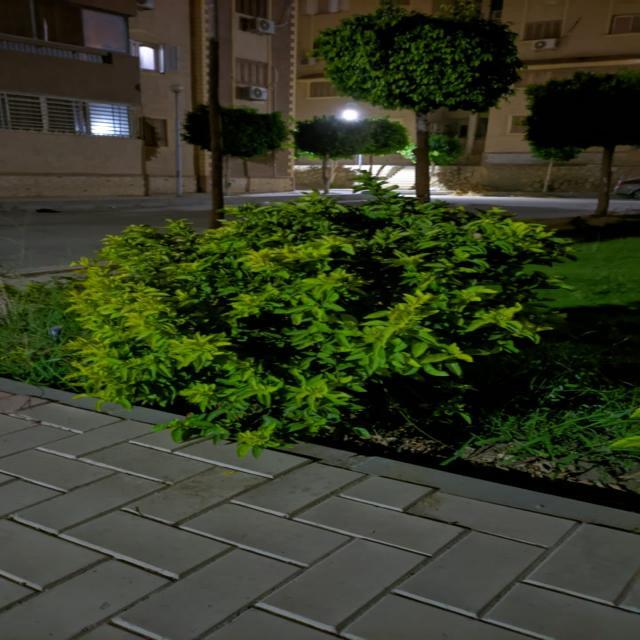Tree: (327, 12, 519, 215), (527, 75, 640, 215), (184, 107, 286, 195), (296, 119, 367, 190), (357, 118, 411, 187), (401, 135, 468, 189)
